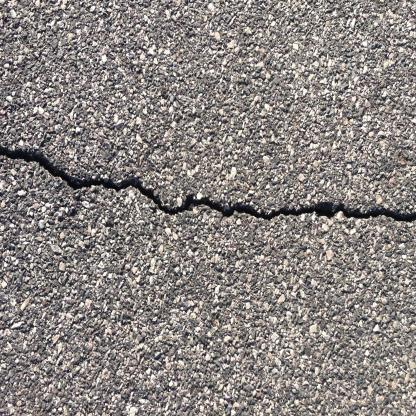Cracks: (0, 139, 416, 227)
